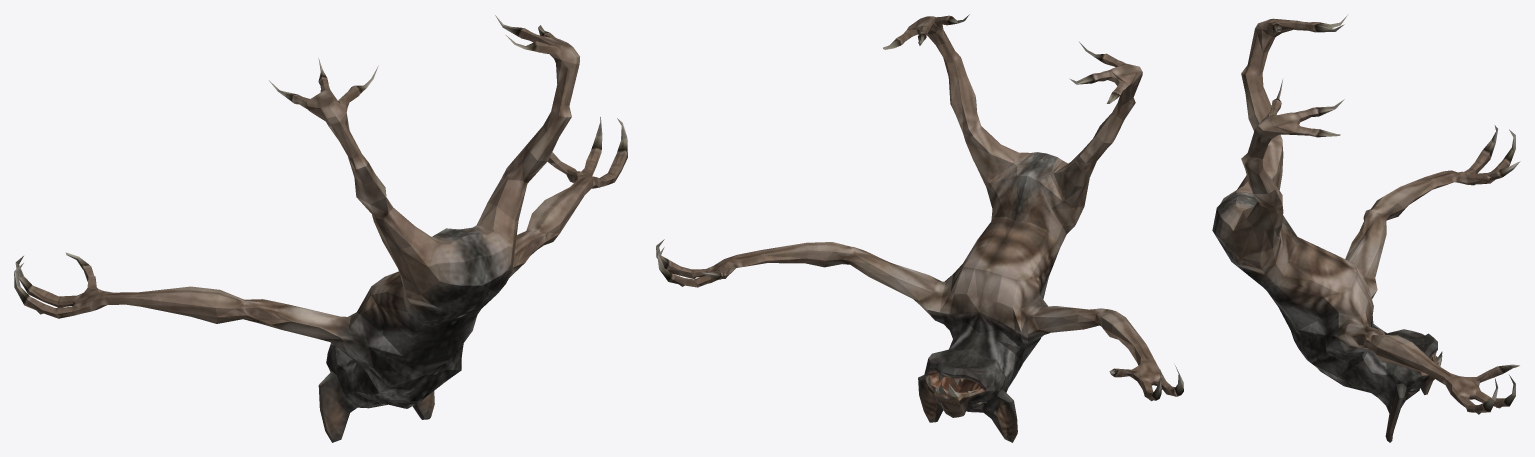
Rendered from vampire.glb.
3 renders of one model, left to right at view 1: azimuth 30°, elevation 25°; view 2: azimuth 150°, elevation 25°; view 3: azimuth 270°, elevation 25°, orthographic. The views are drawn at different scales.
Visible parts, largest first — view 1: vampire.obj; view 2: vampire.obj; view 3: vampire.obj.
Part boxes in pixels (x1=…): vampire.obj: x1=14, y1=15, x2=627, y2=442; vampire.obj: x1=656, y1=14, x2=1183, y2=442; vampire.obj: x1=1212, y1=14, x2=1520, y2=442.
Size of the model in its own units: 0.9997 by 0.6671 by 0.5014.
Materials: 1 (1 with a texture image).
